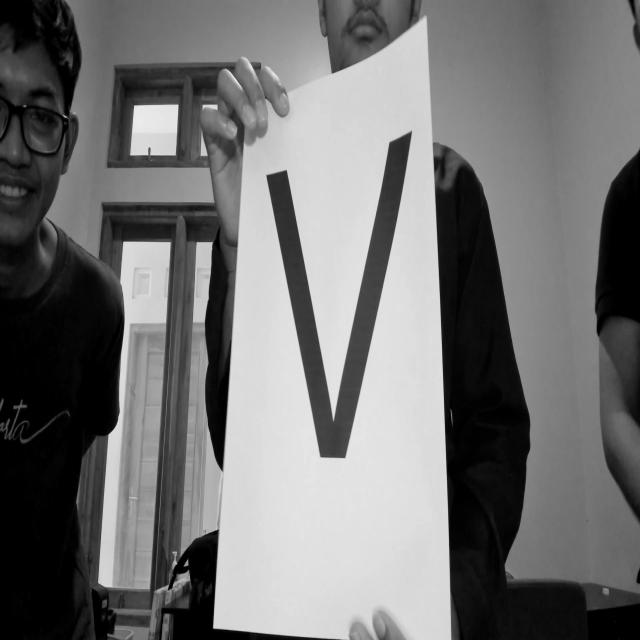v: (253, 119, 428, 494)
